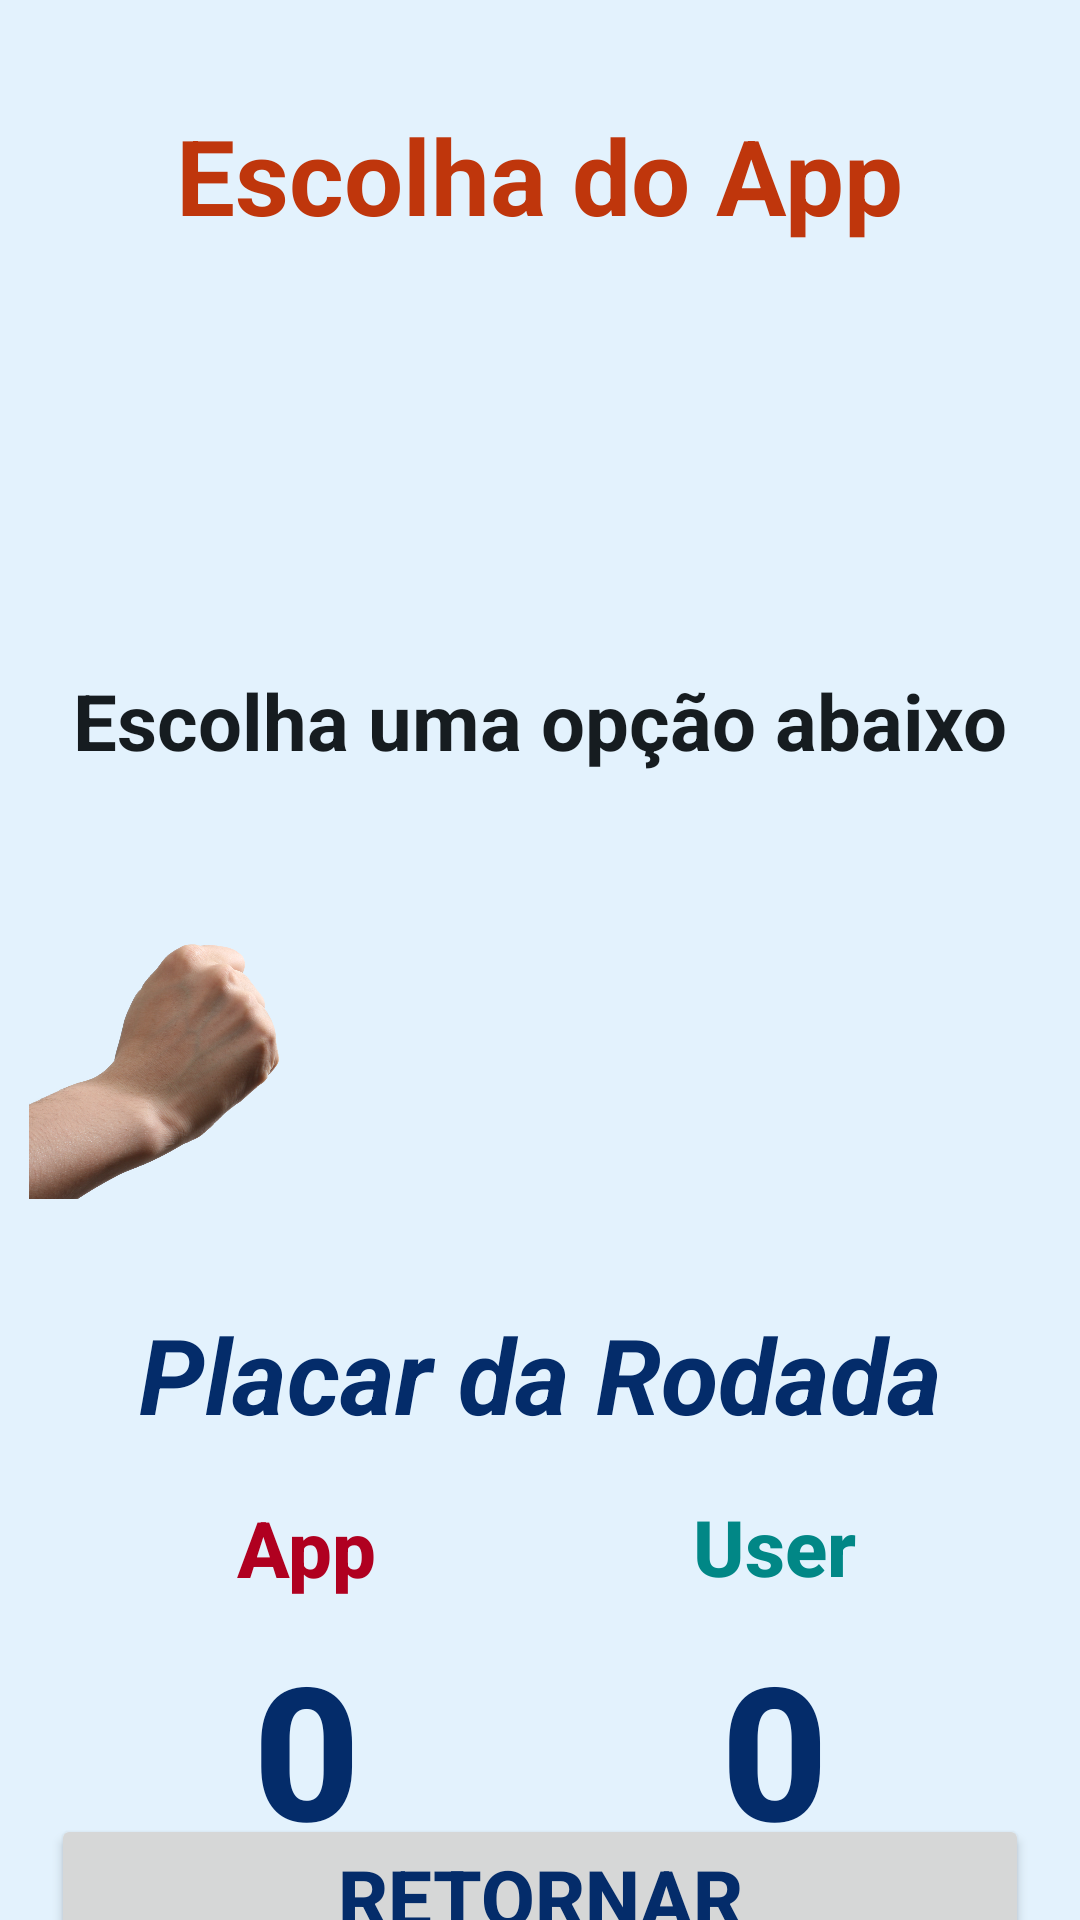

Icons on this 1080*1920 Android screen, each with the point to tap as (x=x, y=y):
Imagem pedra: (x=154, y=1071)
